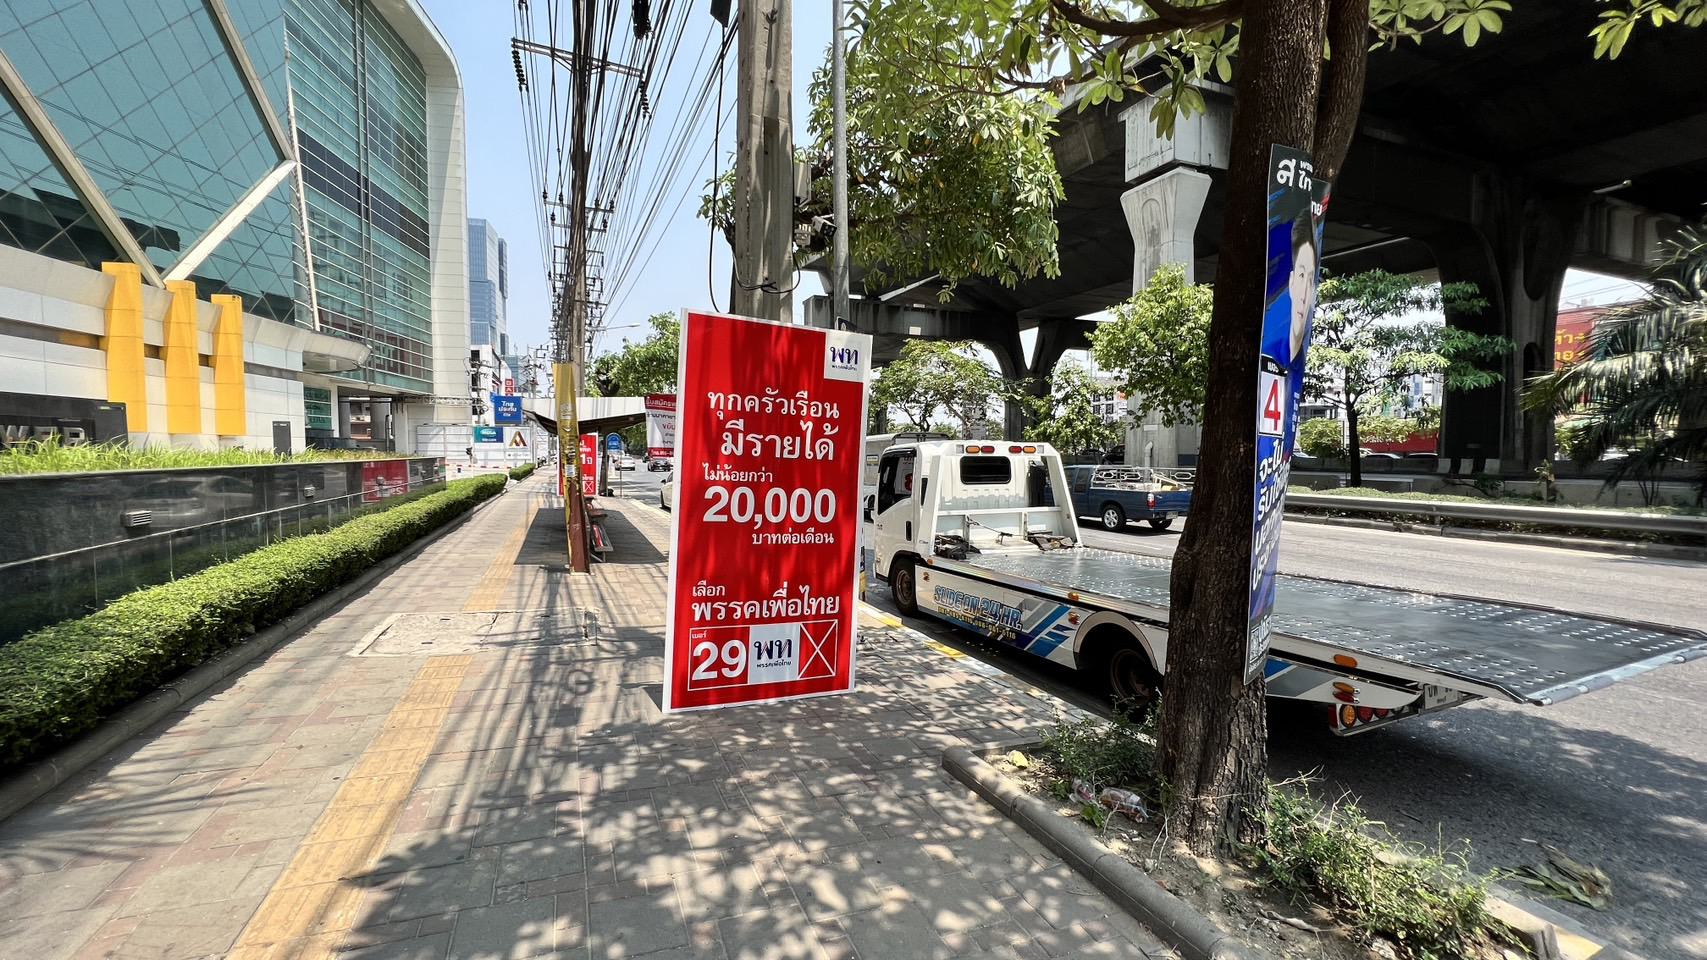Banner: (660, 305, 861, 710)
